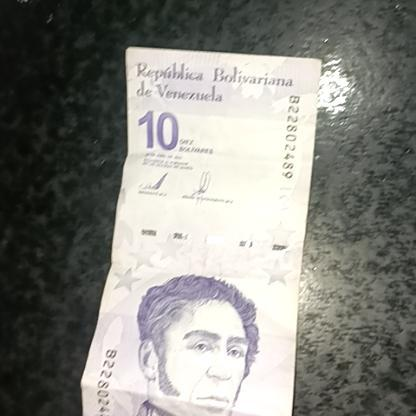ten-front-vef: (80, 45, 322, 416)
